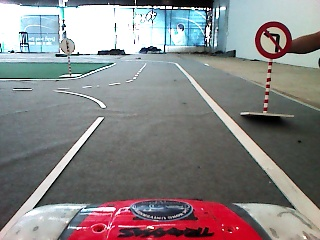ban_left: (256, 21, 291, 59)
